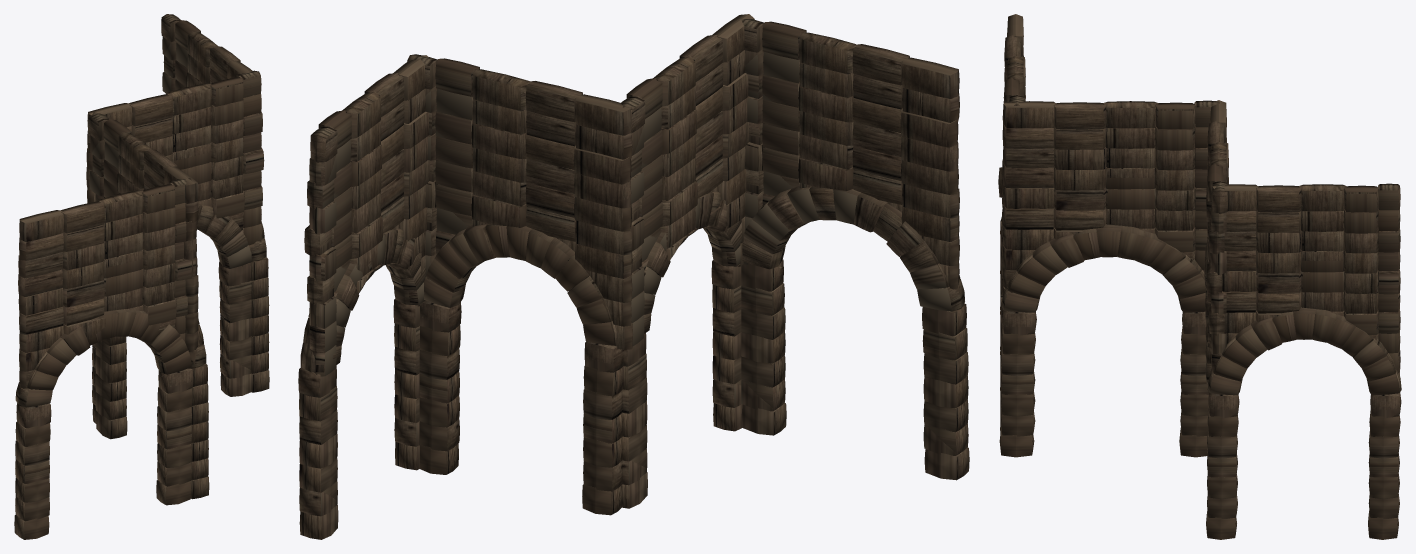
File: ArcosTestBalcon.fbx
The picture shows the model from 3 angles, left to right: view 1: azimuth 30°, elevation 25°; view 2: azimuth 150°, elevation 25°; view 3: azimuth 270°, elevation 25°; orthographic projection. The views are drawn at different scales.
Visible parts, largest first — view 1: Pared_Piedra015, Object144, Pared_Piedra019, Pared_Piedra018, Object142, Object143, Pared_Piedra020, Object141; view 2: Pared_Piedra015, Pared_Piedra019, Object144, Pared_Piedra020, Object142, Pared_Piedra018, Object141, Object143; view 3: Pared_Piedra018, Pared_Piedra020, Object143, Object141, Pared_Piedra019, Pared_Piedra015, Object144.
Boxes of the visible parts, <box> form: Pared_Piedra015: <box>18,178,195,407</box>; Object144: <box>14,309,193,539</box>; Pared_Piedra019: <box>86,70,264,266</box>; Pared_Piedra018: <box>88,112,198,370</box>; Object142: <box>92,204,251,423</box>; Object143: <box>95,321,209,499</box>; Pared_Piedra020: <box>161,14,255,95</box>; Object141: <box>250,221,269,392</box>; Pared_Piedra015: <box>736,18,959,291</box>; Pared_Piedra019: <box>407,54,632,349</box>; Object144: <box>741,186,969,480</box>; Pared_Piedra020: <box>304,55,429,376</box>; Object142: <box>419,224,623,515</box>; Pared_Piedra018: <box>621,14,754,346</box>; Object141: <box>298,228,425,539</box>; Object143: <box>622,191,742,508</box>; Pared_Piedra018: <box>1002,100,1219,295</box>; Pared_Piedra020: <box>1212,183,1400,375</box>; Object143: <box>999,224,1208,457</box>; Object141: <box>1206,307,1401,539</box>; Pared_Piedra019: <box>1204,100,1228,373</box>; Pared_Piedra015: <box>1001,14,1025,236</box>; Object144: <box>998,167,1003,432</box>.
Bounding box in the file's own units: 842 × 744 × 783.
